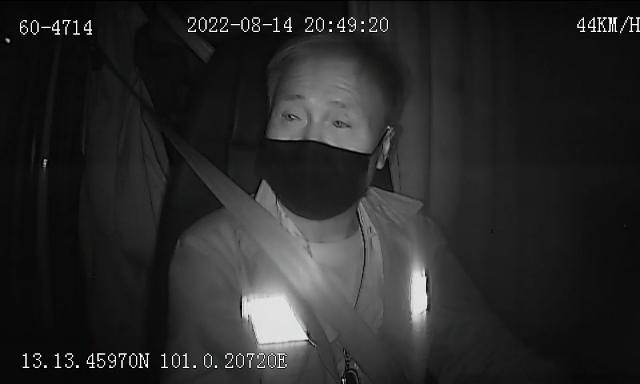SafeDriving: (322, 108, 361, 136), (273, 101, 309, 128)
Seatbelt: (170, 125, 400, 384)
